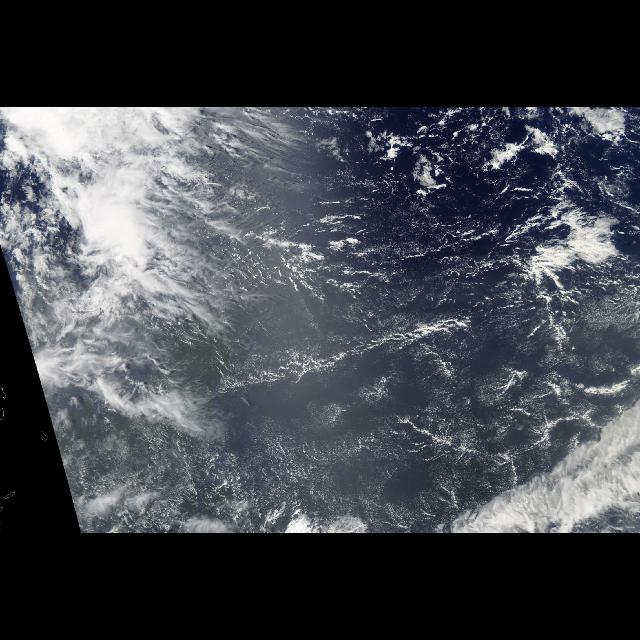Gravel: (358, 132, 542, 292)
Sugar: (66, 323, 588, 515)
